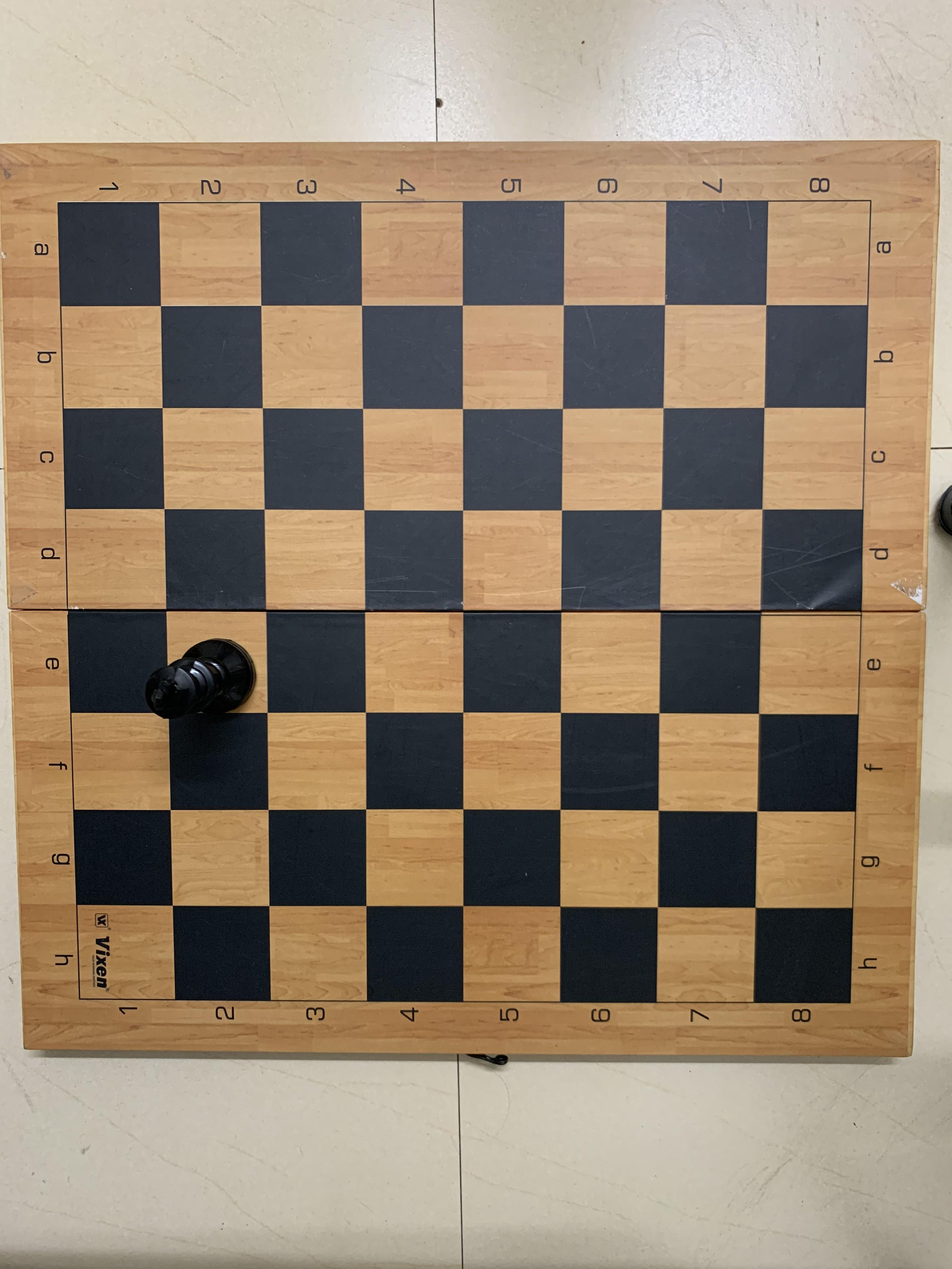black_king: (138, 618, 274, 719)
